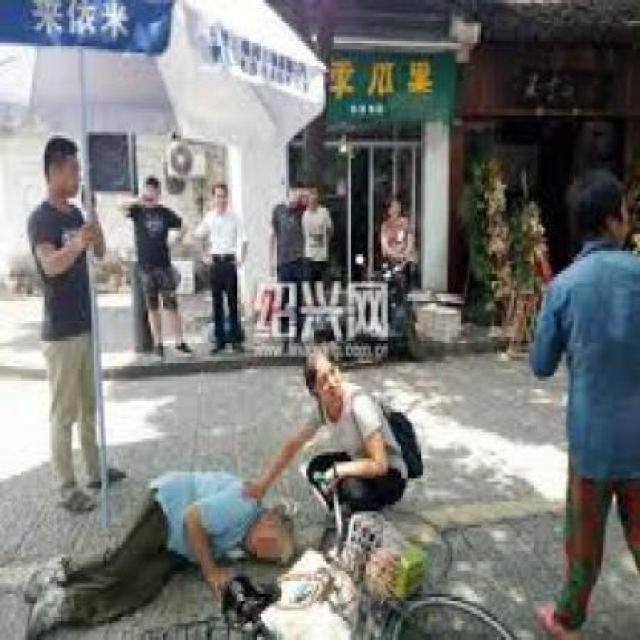fall: (11, 445, 306, 633)
